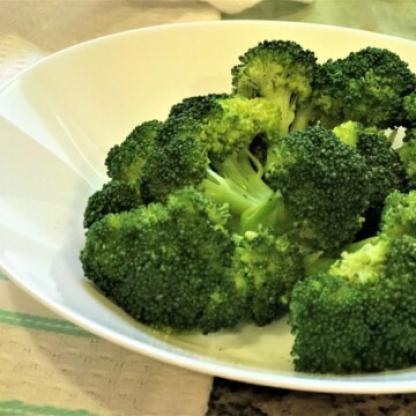broccoli: (80, 38, 415, 376)
